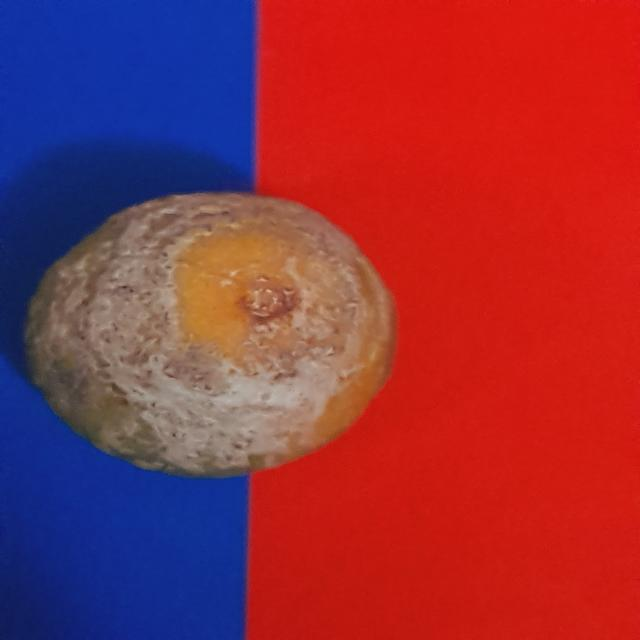thrips: (26, 187, 412, 493)
